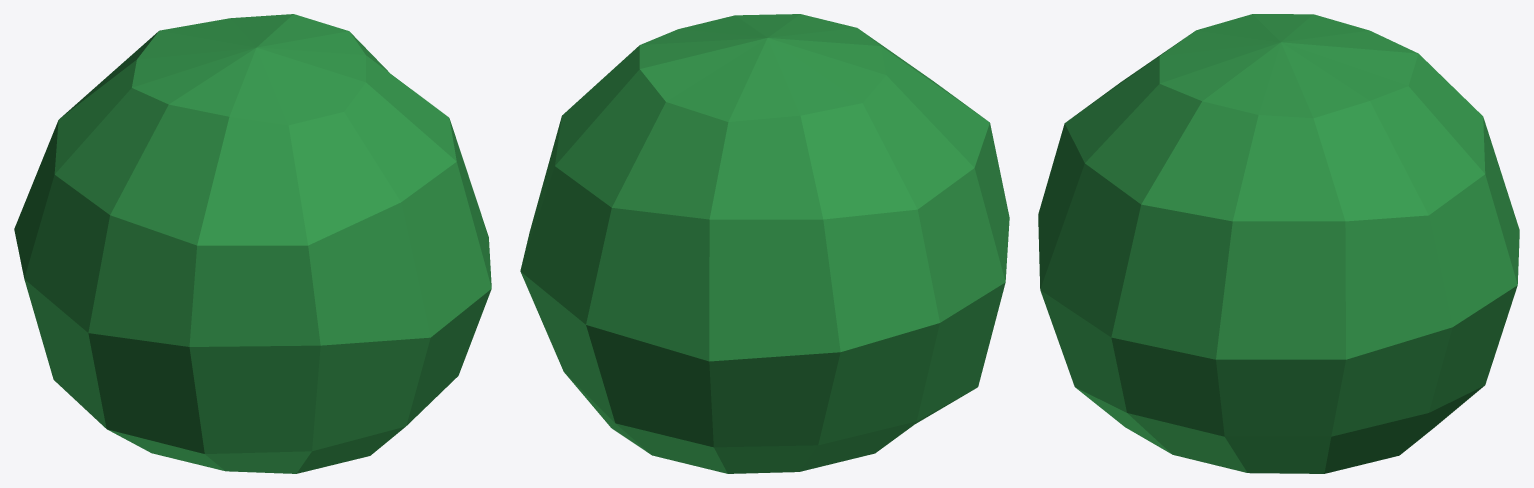
The picture shows the model from 3 angles, left to right: view 1: azimuth 30°, elevation 25°; view 2: azimuth 150°, elevation 25°; view 3: azimuth 270°, elevation 25°; orthographic projection. The views are drawn at different scales.
Visible parts, largest first — view 1: sphere; view 2: sphere; view 3: sphere.
Part boxes in pixels (bbox=[...]): sphere: bbox=[14, 14, 491, 473]; sphere: bbox=[520, 14, 1009, 473]; sphere: bbox=[1038, 14, 1519, 473].
Bounding box in the file's own units: 1.45 × 1.25 × 1.49.
Materials: 1 (1 with a texture image).
